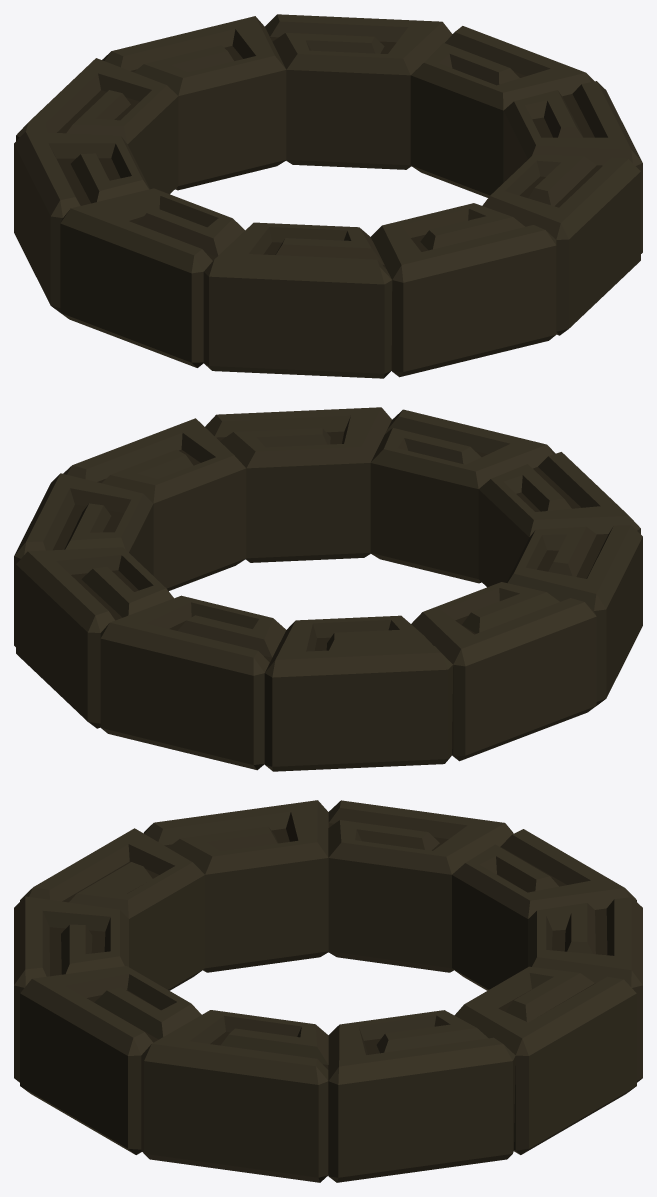
File: ENV_Stone_SkyShip_Obstacle_03.fbx
The picture shows the model from 3 angles, top to bottom: view 1: azimuth 30°, elevation 25°; view 2: azimuth 150°, elevation 25°; view 3: azimuth 270°, elevation 25°; orthographic projection. The views are drawn at different scales.
Visible parts, largest first — view 1: ENV_Stone_SkyShip_Obstacle_03; view 2: ENV_Stone_SkyShip_Obstacle_03; view 3: ENV_Stone_SkyShip_Obstacle_03.
Boxes of the visible parts, bbox=[...] form: ENV_Stone_SkyShip_Obstacle_03: bbox=[14, 14, 642, 378]; ENV_Stone_SkyShip_Obstacle_03: bbox=[14, 407, 642, 771]; ENV_Stone_SkyShip_Obstacle_03: bbox=[14, 800, 642, 1182].
Size of the model in its own units: 81.47 by 15.94 by 78.25.
